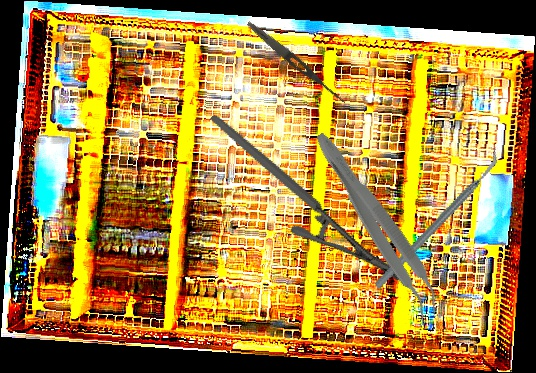Chopper: (344, 147, 530, 291)
Dressing Forceps: (244, 18, 349, 107)
Needle Holder: (209, 72, 407, 323)
Tissue Forceps: (301, 126, 452, 326)
